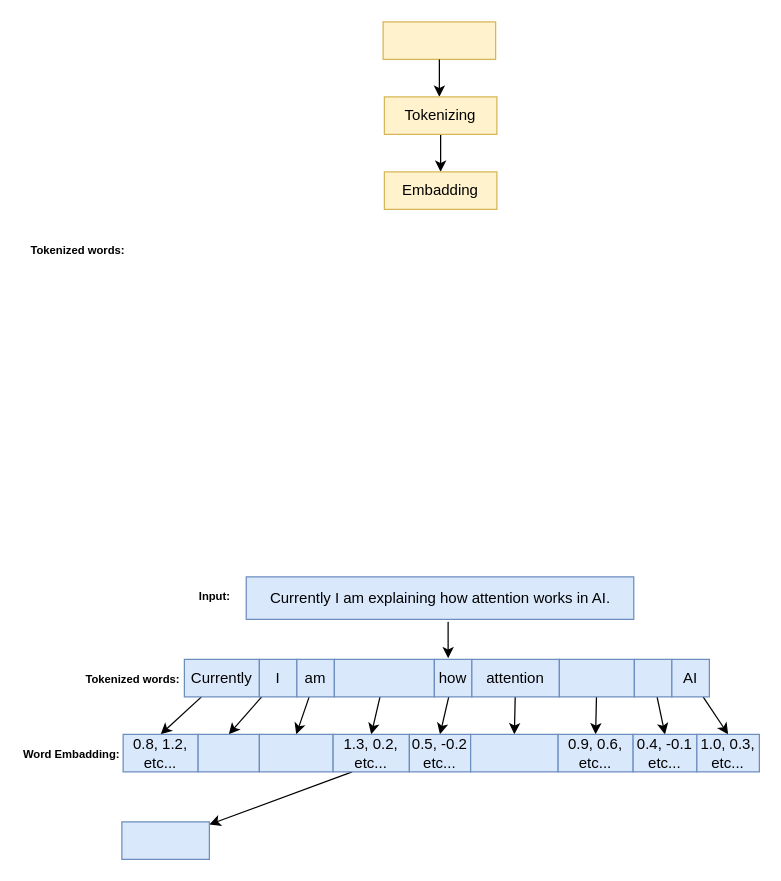
Some shapes in this 781 by 881 pixel diagram are drawn without their labels. The shapes that lost their labels are listed below. From the top down, each one's box as (x1, y1, x2, y2) in pixels, then its label:
(382, 21, 496, 59): Input
(333, 658, 434, 697): explaining
(558, 658, 634, 697): works
(633, 658, 672, 697): in
(197, 733, 259, 772): 0.1, 0.9 etc...
(258, 733, 333, 772): 0.2, 1.1, etc...
(469, 733, 558, 772): 1.5, 0.4, etc...
